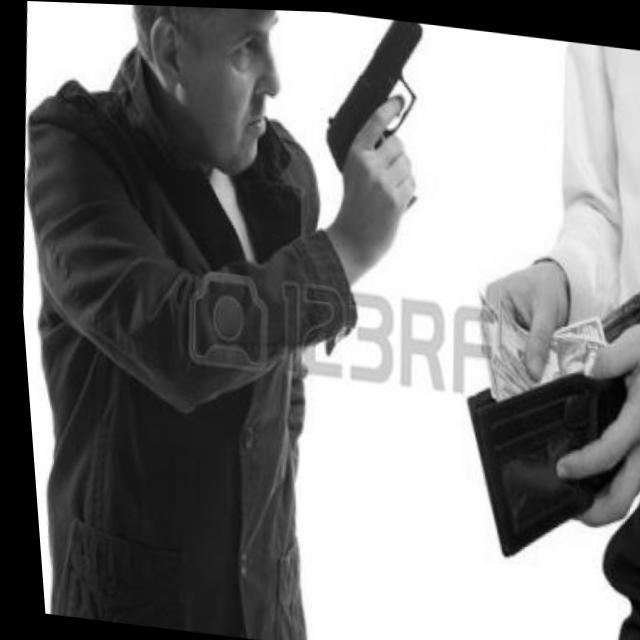weapon: (297, 8, 446, 220)
